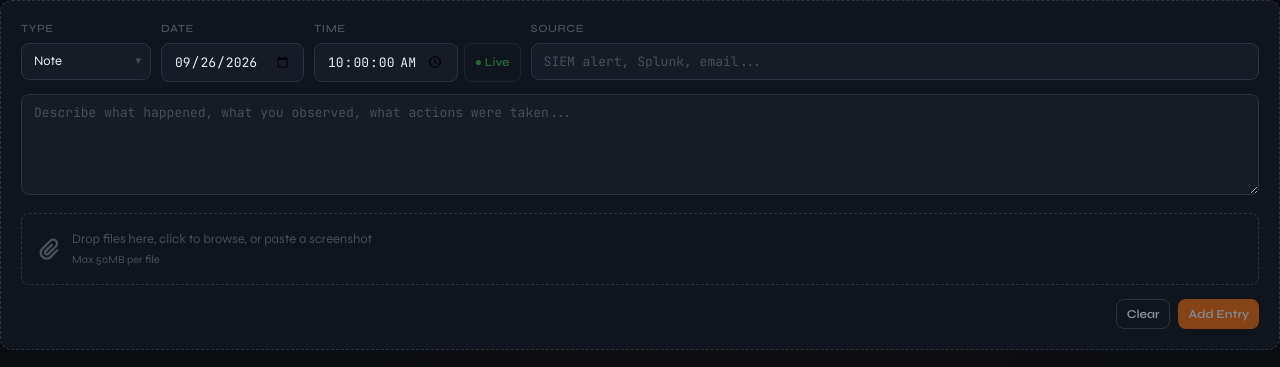
Test: AddEntryForm live time › "Now" resumes following the clock
Focus the form at (640, 175), box [0, 0, 1279, 350]
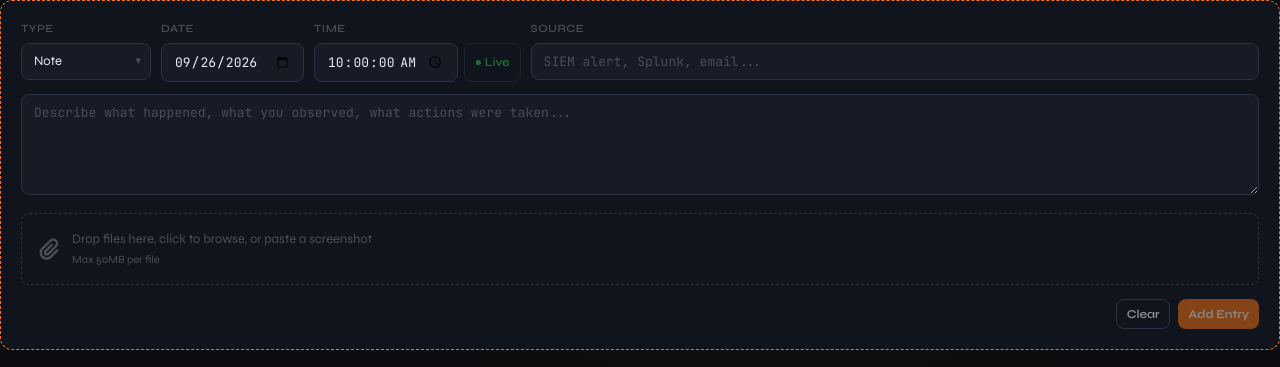
Replace the text in the time field with "08:15:00" at (386, 62), box [314, 42, 458, 82]
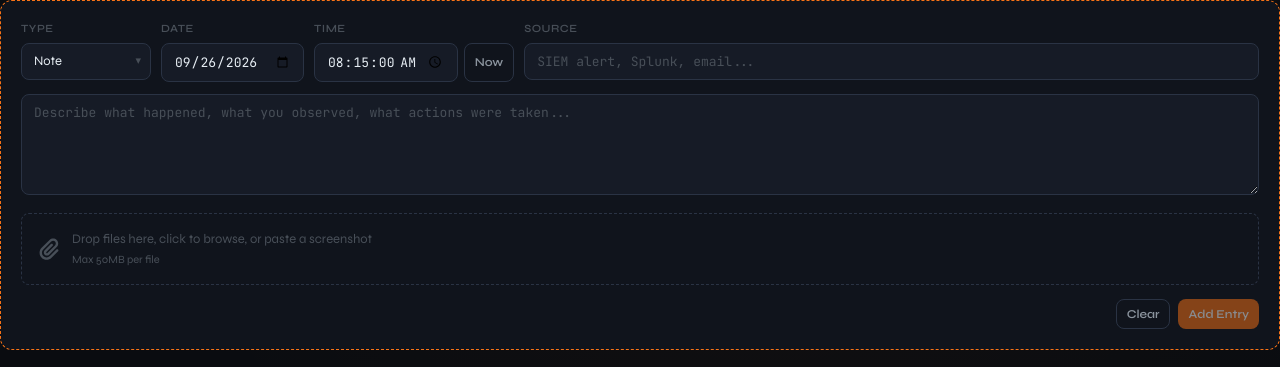
Click the button "Now" at (489, 62), box [464, 42, 514, 82]
Wait 2000 ms
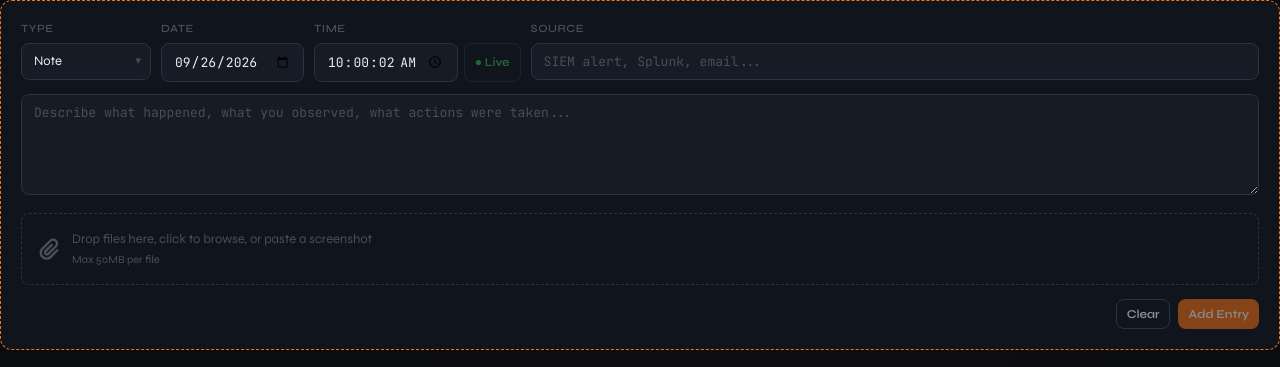
Result: the time field does not hold "08:15:00" at [314, 42, 458, 82]
Result: the button "● Live" is disabled at [464, 42, 521, 82]
